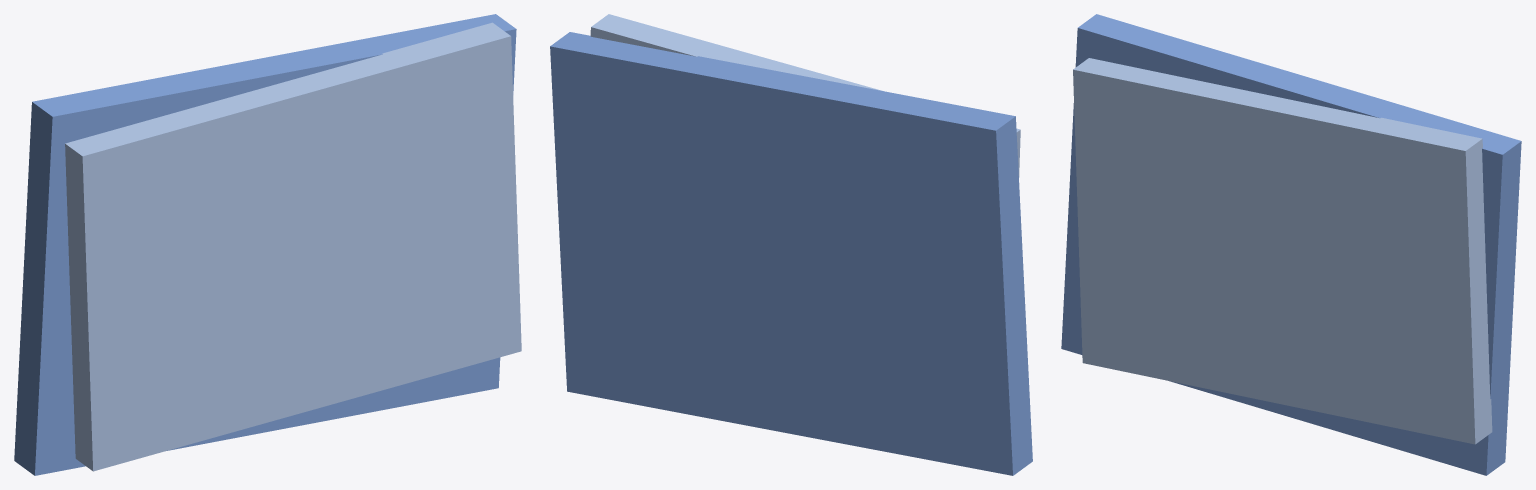
The model's file is 01_blue_books_stack.obj.
3 renders of one model, left to right at view 1: azimuth 30°, elevation 25°; view 2: azimuth 150°, elevation 25°; view 3: azimuth 330°, elevation 25°, orthographic. The views are drawn at different scales.
Visible parts, largest first — view 1: blue_books_stack_book_top, blue_books_stack_book_bottom; view 2: blue_books_stack_book_bottom, blue_books_stack_book_top; view 3: blue_books_stack_book_top, blue_books_stack_book_bottom.
Boxes of the visible parts, left/top/right/bottom form: blue_books_stack_book_top: left=65, top=22, right=521, bottom=471; blue_books_stack_book_bottom: left=14, top=14, right=516, bottom=475; blue_books_stack_book_bottom: left=550, top=32, right=1032, bottom=475; blue_books_stack_book_top: left=590, top=14, right=1020, bottom=177; blue_books_stack_book_top: left=1073, top=58, right=1492, bottom=444; blue_books_stack_book_bottom: left=1061, top=14, right=1521, bottom=475.
Bounding box in the file's own units: 0.2696 × 0.2033 × 0.037.
